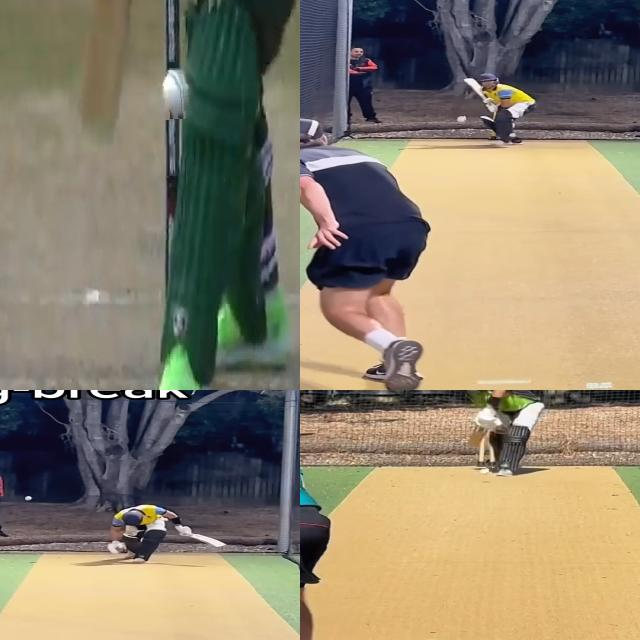Cricket ball: (158, 65, 193, 120), (478, 467, 492, 476), (456, 115, 468, 123), (26, 496, 34, 501)
